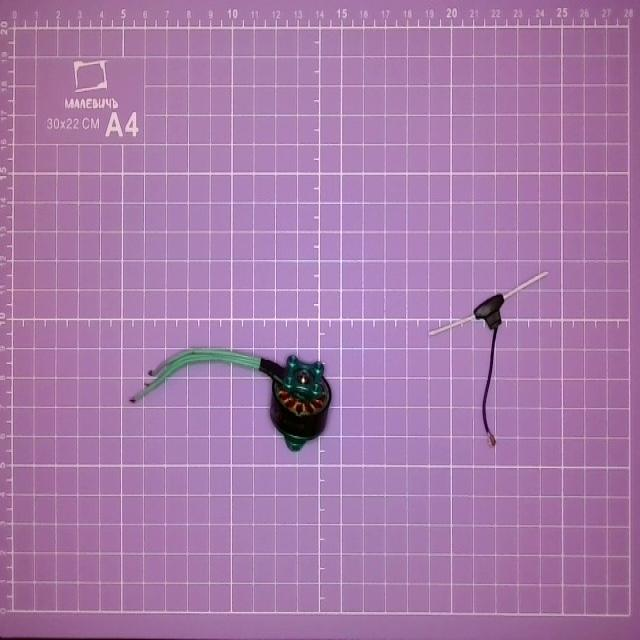antenna: (432, 268, 554, 451)
motor: (116, 338, 338, 463)
